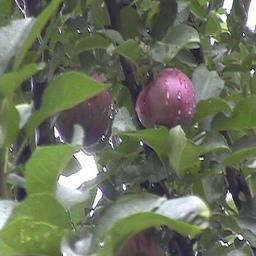apple: (49, 67, 113, 147), (135, 66, 196, 130)
